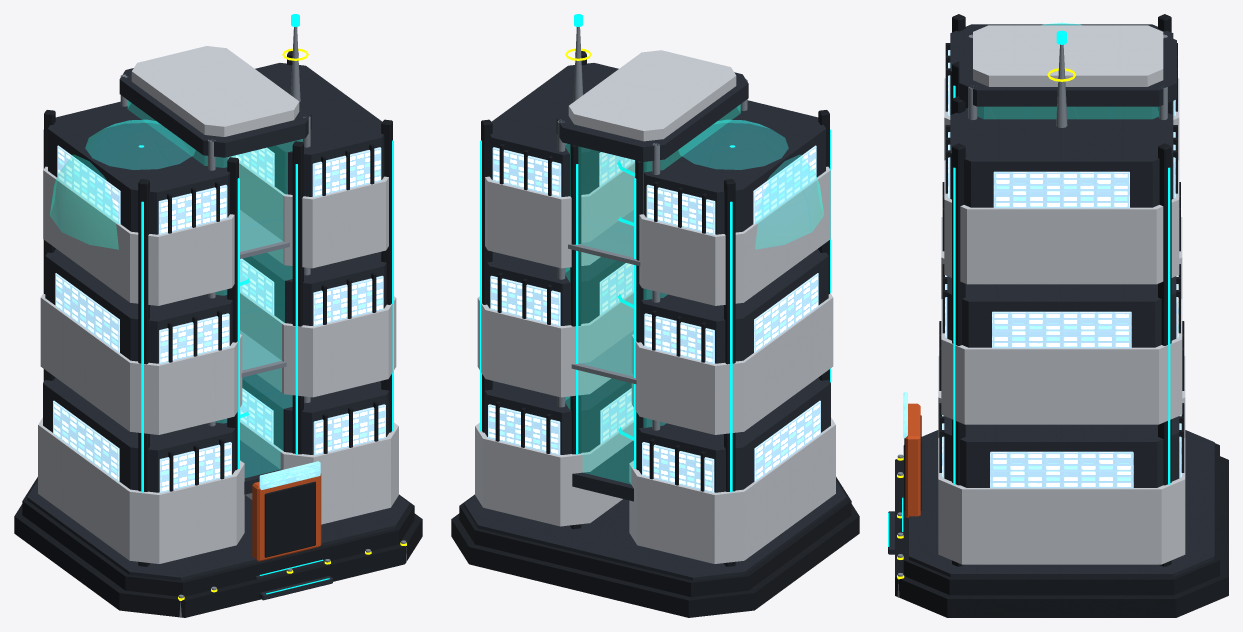
File: bldg_18_r1_03.glb
3 renders of one model, left to right at view 1: azimuth 30°, elevation 25°; view 2: azimuth 150°, elevation 25°; view 3: azimuth 270°, elevation 25°, orthographic. The views are drawn at different scales.
Visible parts, largest first — view 1: Bldg18_C03_aero_white, Bldg18_C03_carbon_slate, Bldg18_C03_gunmetal, Bldg18_C03_glass_emerald, Bldg18_C03_window_lit, Bldg18_C03_steel_machined, Bldg18_C03_led_cyan, Bldg18_C03_accent_orange, Bldg18_C03_marquee; view 2: Bldg18_C03_aero_white, Bldg18_C03_carbon_slate, Bldg18_C03_gunmetal, Bldg18_C03_glass_emerald, Bldg18_C03_window_lit, Bldg18_C03_steel_machined, Bldg18_C03_led_cyan; view 3: Bldg18_C03_aero_white, Bldg18_C03_carbon_slate, Bldg18_C03_gunmetal, Bldg18_C03_window_lit, Bldg18_C03_led_cyan, Bldg18_C03_glass_emerald, Bldg18_C03_accent_orange, Bldg18_C03_steel_machined.
Part boxes in pixels (x1,y1,x2,y2): Bldg18_C03_aero_white: (38,46,398,563); Bldg18_C03_carbon_slate: (27,63,409,600); Bldg18_C03_gunmetal: (14,51,422,617); Bldg18_C03_glass_emerald: (50,100,302,477); Bldg18_C03_window_lit: (53,145,385,492); Bldg18_C03_steel_machined: (120,27,406,617); Bldg18_C03_led_cyan: (43,14,393,594); Bldg18_C03_accent_orange: (252,473,321,561); Bldg18_C03_marquee: (259,461,320,489); Bldg18_C03_aero_white: (475,50,835,563); Bldg18_C03_carbon_slate: (464,63,846,580); Bldg18_C03_gunmetal: (451,51,859,617); Bldg18_C03_glass_emerald: (565,104,823,483); Bldg18_C03_window_lit: (488,145,820,492); Bldg18_C03_steel_machined: (557,27,747,430); Bldg18_C03_led_cyan: (480,14,830,492); Bldg18_C03_aero_white: (938,25,1185,564); Bldg18_C03_carbon_slate: (888,24,1214,577); Bldg18_C03_gunmetal: (895,14,1228,617); Bldg18_C03_window_lit: (942,50,1181,488); Bldg18_C03_led_cyan: (888,30,1170,546); Bldg18_C03_glass_emerald: (977,22,1158,118); Bldg18_C03_accent_orange: (905,403,920,517); Bldg18_C03_steel_machined: (897,34,1167,597).
Size of the model in its own units: 12.2 by 18.92 by 10.71.
Materials: 12 (12 with a texture image).
